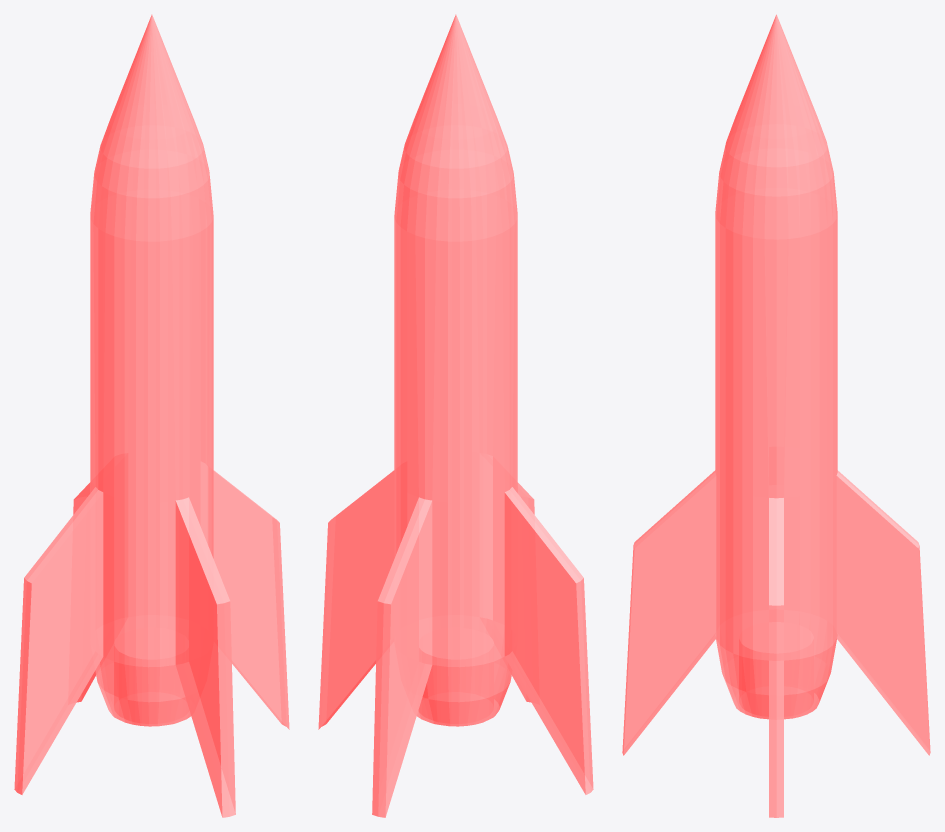
Rendered from red rocket bullet .glb.
The picture shows the model from 3 angles, left to right: view 1: azimuth 30°, elevation 25°; view 2: azimuth 150°, elevation 25°; view 3: azimuth 270°, elevation 25°; orthographic projection.
Parts seen in each view (by area): view 1: Cylinder; view 2: Cylinder; view 3: Cylinder.
Part boxes in pixels (<box>): Cylinder: <box>14,14,289,817</box>; Cylinder: <box>318,14,593,817</box>; Cylinder: <box>622,14,930,817</box>.
Bounding box in the file's own units: 4 × 10.58 × 4.
